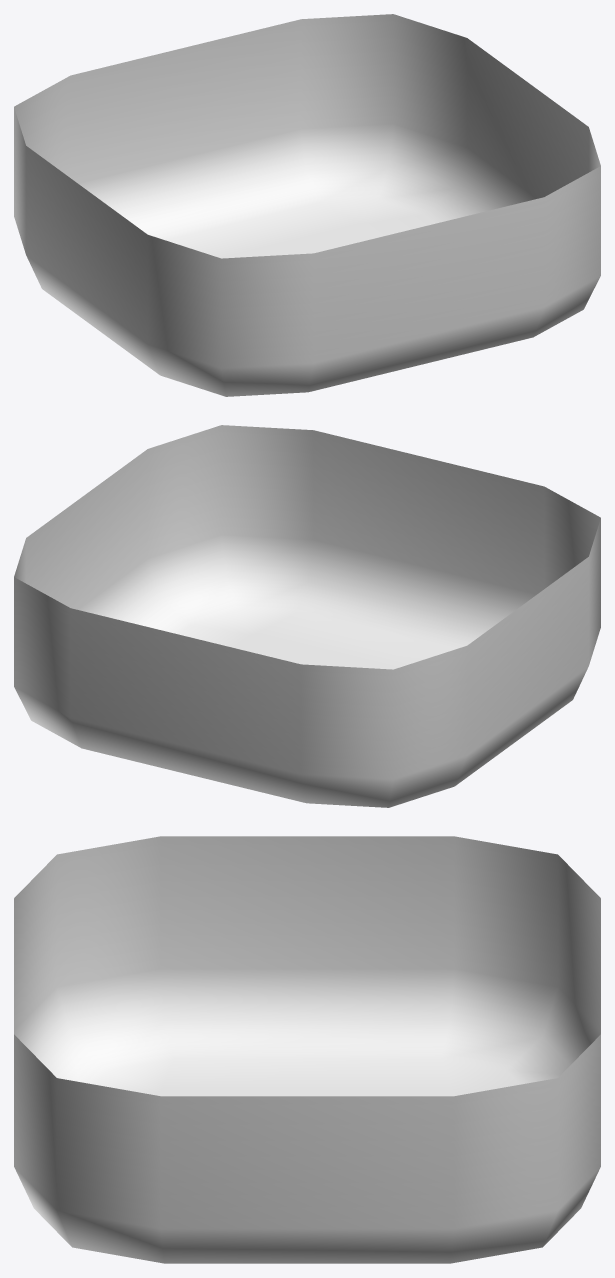
The model's file is Glow.fbx.
The picture shows the model from 3 angles, top to bottom: view 1: azimuth 30°, elevation 25°; view 2: azimuth 150°, elevation 25°; view 3: azimuth 270°, elevation 25°; orthographic projection. The views are drawn at different scales.
Visible parts, largest first — view 1: pCube420; view 2: pCube420; view 3: pCube420.
Boxes of the visible parts, bbox=[...] form: pCube420: bbox=[14, 14, 600, 396]; pCube420: bbox=[14, 425, 600, 807]; pCube420: bbox=[14, 836, 600, 1263].
Bounding box in the file's own units: 58180 × 20232 × 55532.
Materials: 1 (1 with a texture image).
